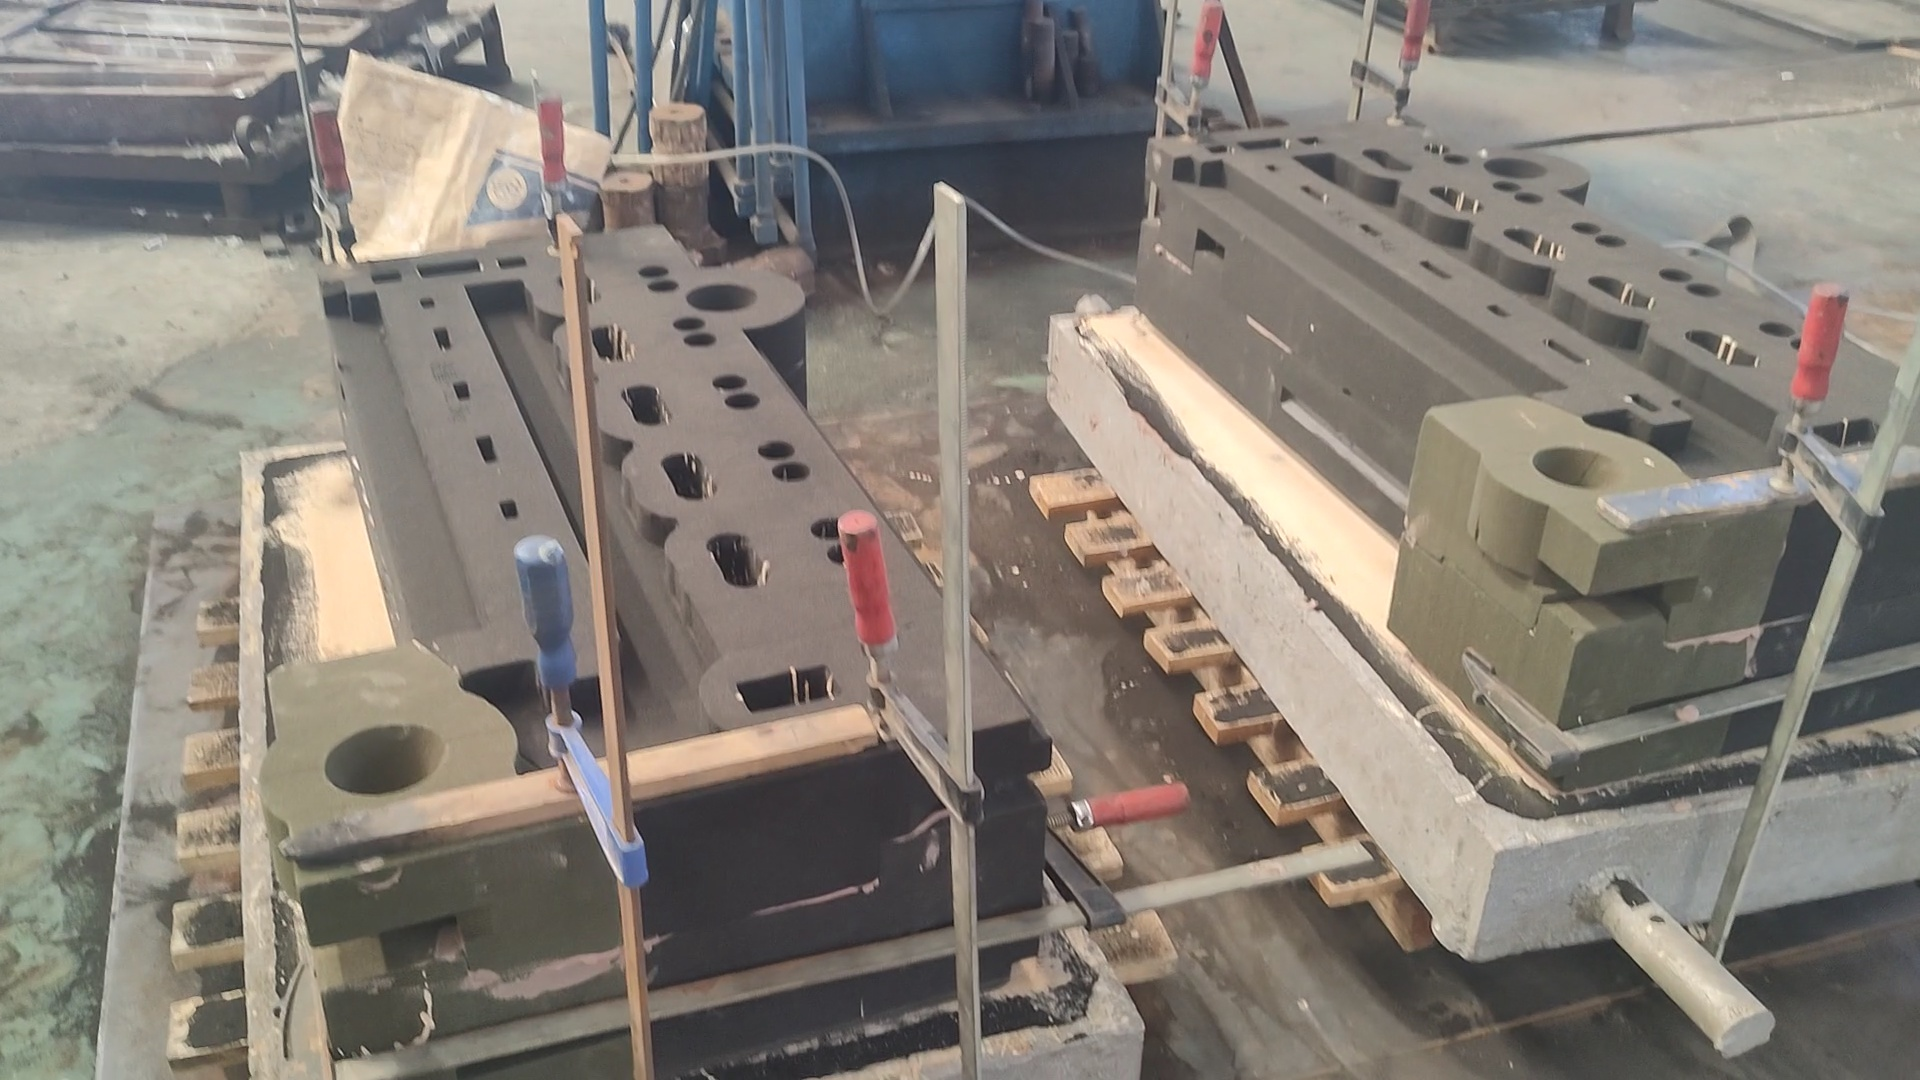pouring hole: (320, 724, 446, 796), (1531, 444, 1621, 491), (686, 282, 757, 311), (1484, 158, 1549, 178), (1185, 104, 1222, 117), (1250, 115, 1288, 127), (1209, 120, 1242, 131)
